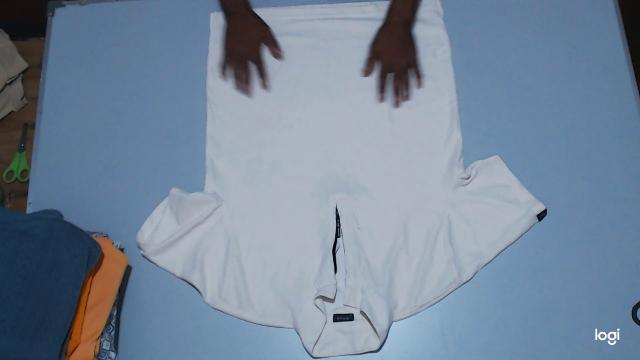new-garment: (137, 0, 546, 357)
